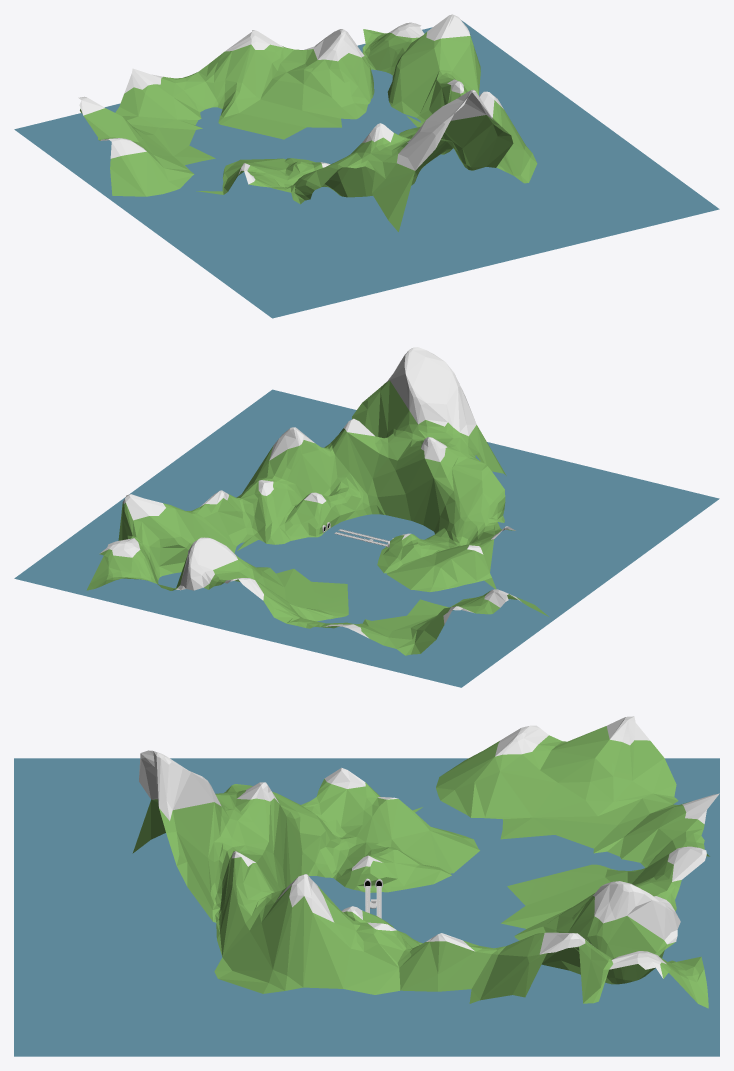
The model's file is landscape.fbx.
The picture shows the model from 3 angles, top to bottom: view 1: azimuth 30°, elevation 25°; view 2: azimuth 150°, elevation 25°; view 3: azimuth 270°, elevation 25°; orthographic projection. The views are drawn at different scales.
Parts seen in each view (by area): view 1: water, pPlane2; view 2: water, pPlane2; view 3: water, pPlane2.
Boxes of the visible parts, x1,y1,x2,y2 form: water: [14, 20, 719, 318]; pPlane2: [78, 14, 537, 231]; water: [14, 389, 719, 687]; pPlane2: [86, 347, 548, 655]; water: [14, 758, 719, 1056]; pPlane2: [132, 716, 719, 1008].
Bounding box in the file's own units: 12942 × 12942 × 3830.
